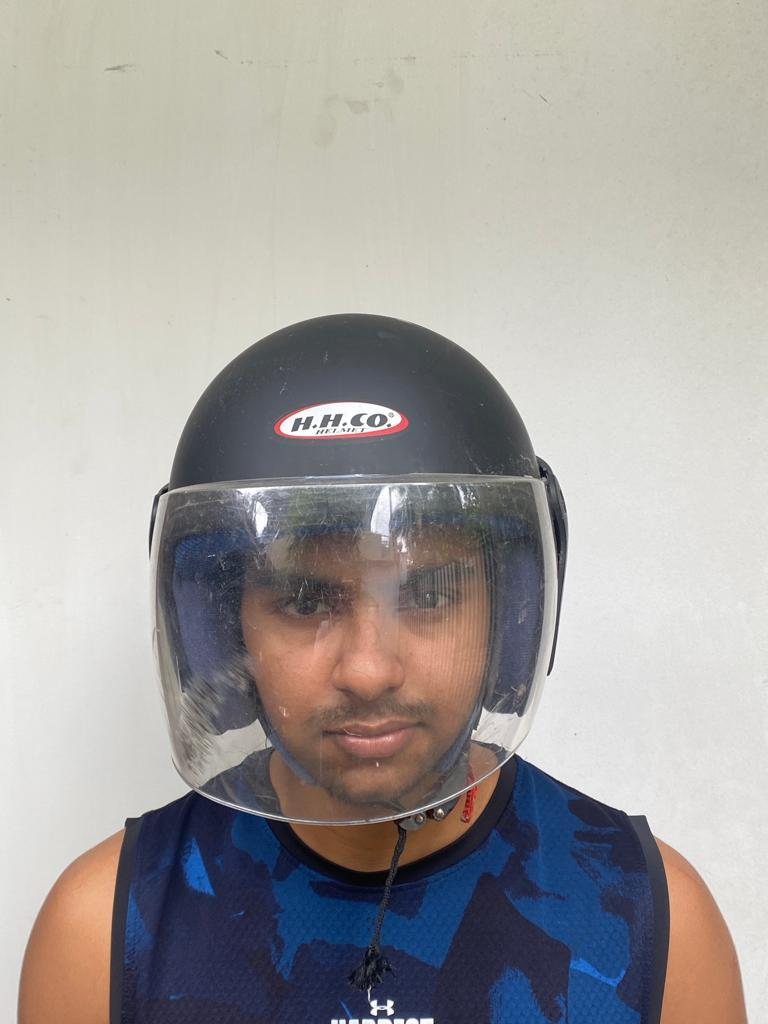helmet: (146, 311, 568, 831)
